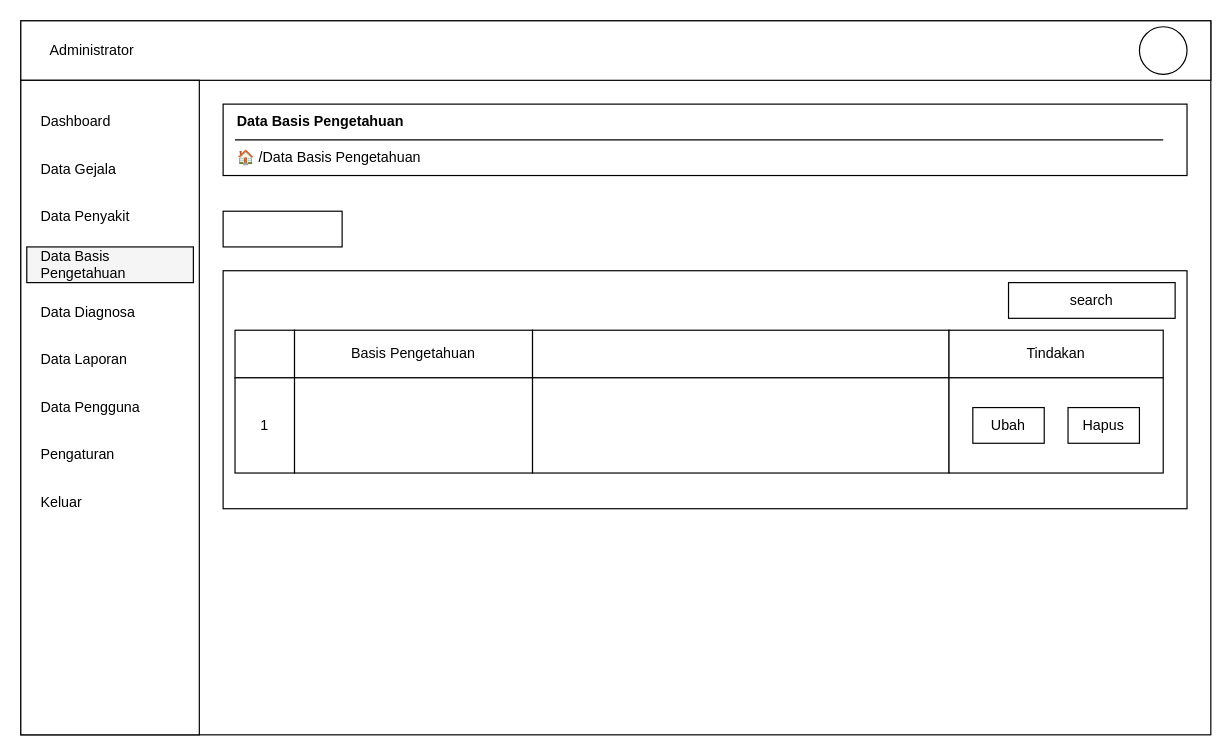
This 1232x756 diagram has some shape labels left out. Each missing label, with the centre of its shape:
"+ Tambah" belongs at (x=282, y=228).
"Deskripsi / Judul" belongs at (x=740, y=353).
"NO" belongs at (x=264, y=353).
"profil" belongs at (x=1162, y=50).
